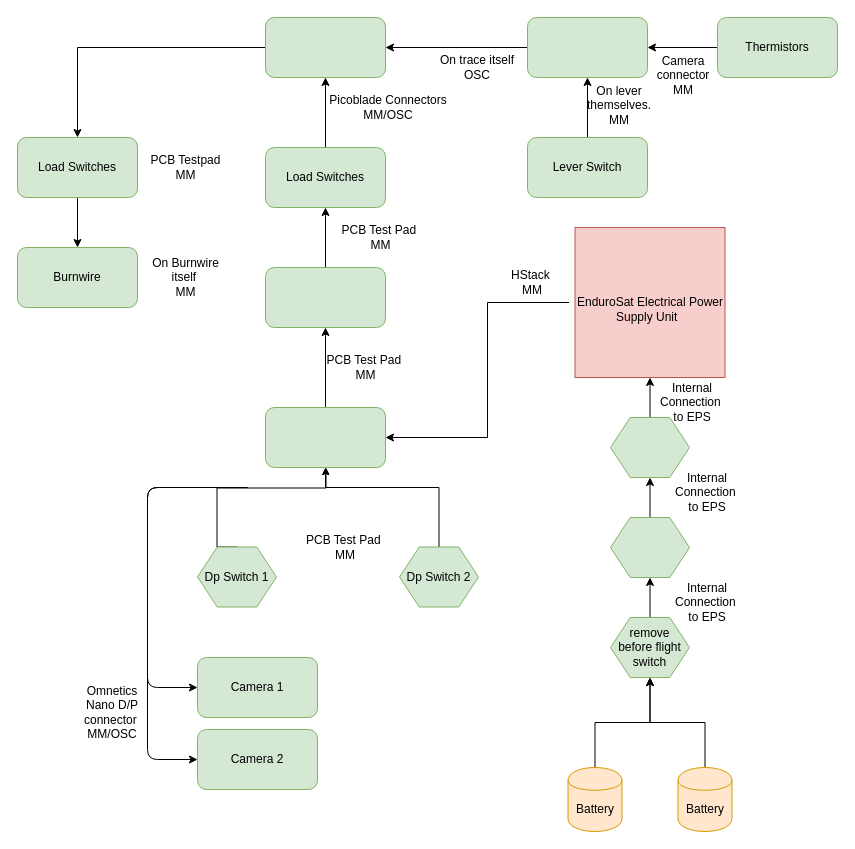
Some shapes in this 855 by 849 pixel diagram are drawn without their labels. Here are the shapes that lost their labels. From the top down, the centre of each, then its label:
At (325,47): "Custom board 2".
At (587,47): "ADC".
At (325,297): "Latching Circuit".
At (325,437): "30 Minute Timer".
At (650,447): "Dp Switch 4".
At (650,547): "Dp Switch 3".
